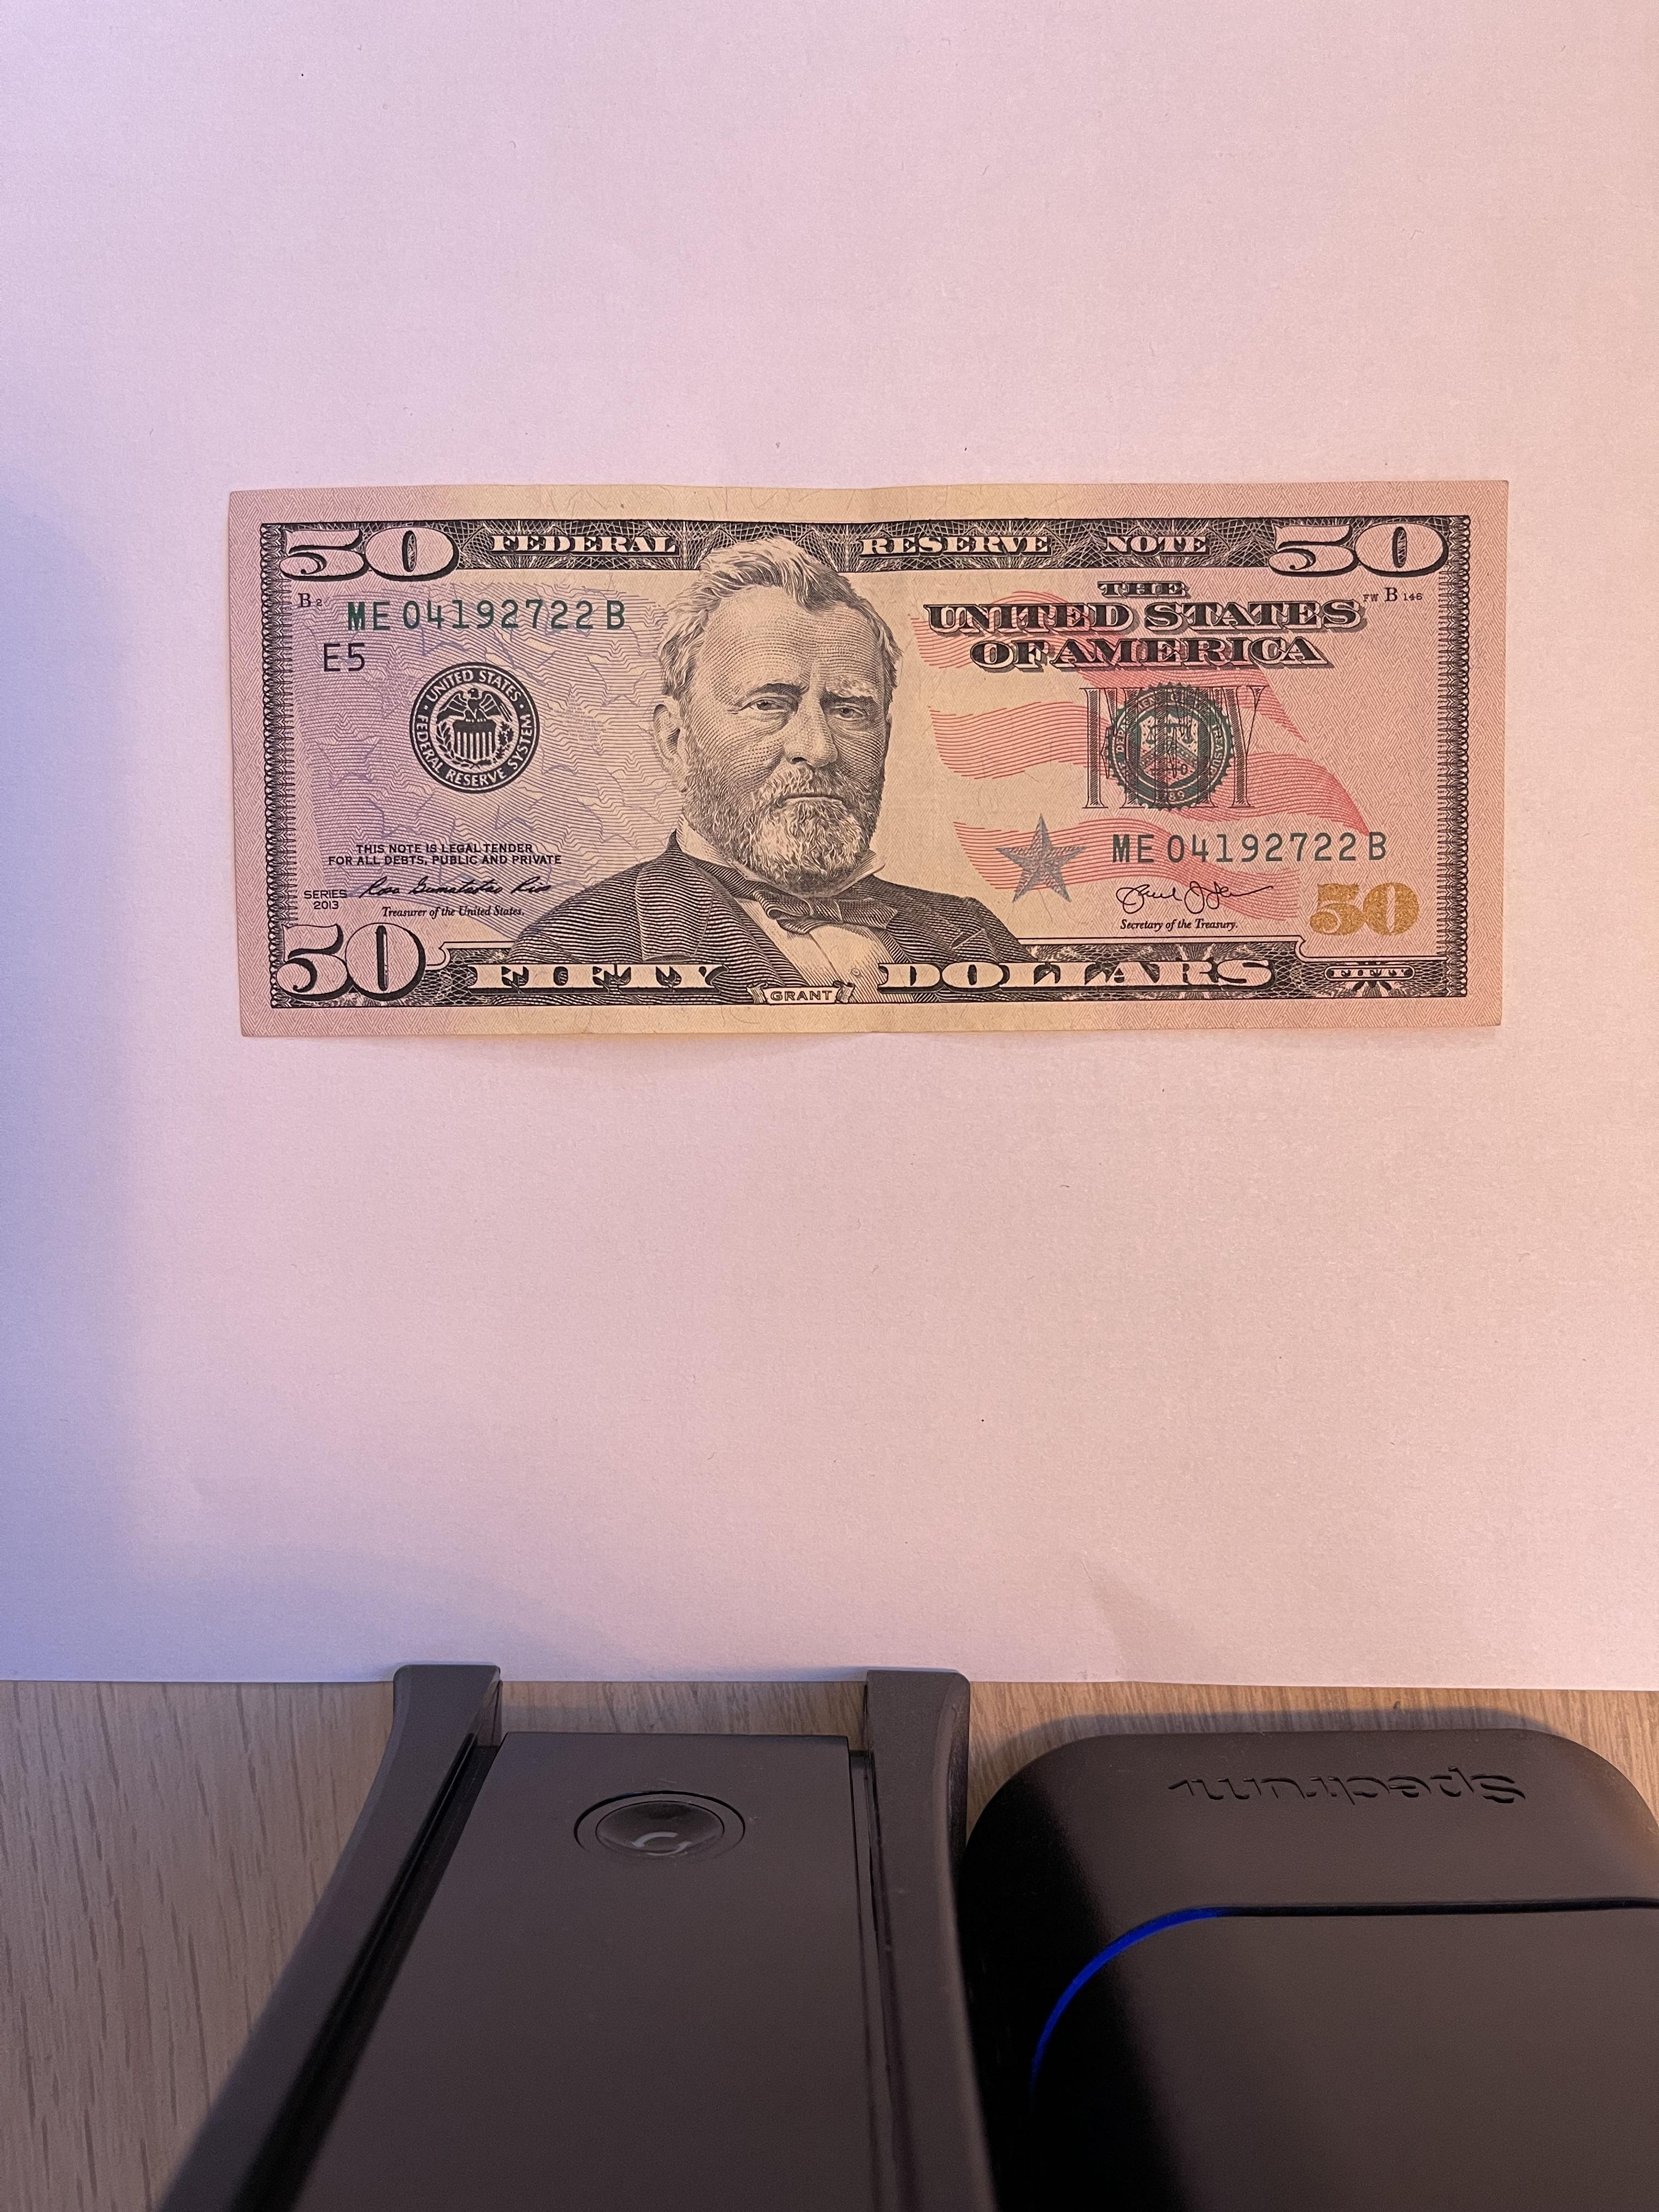FiftyBill: (225, 475, 1513, 1043)
